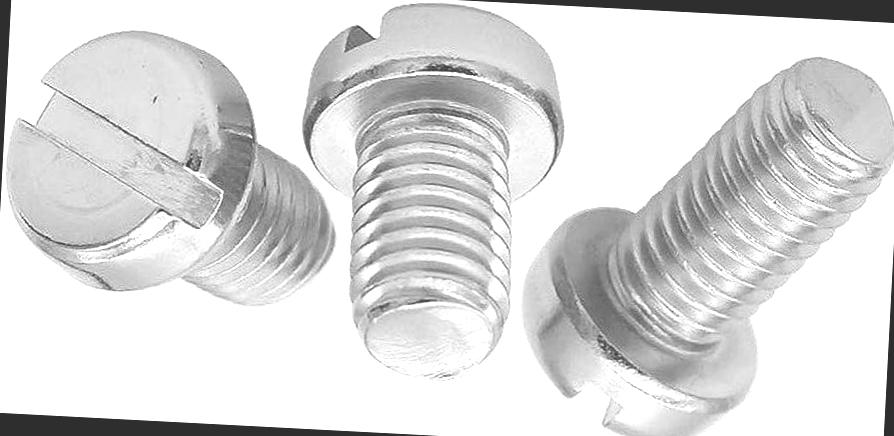screw: (1, 23, 263, 300)
